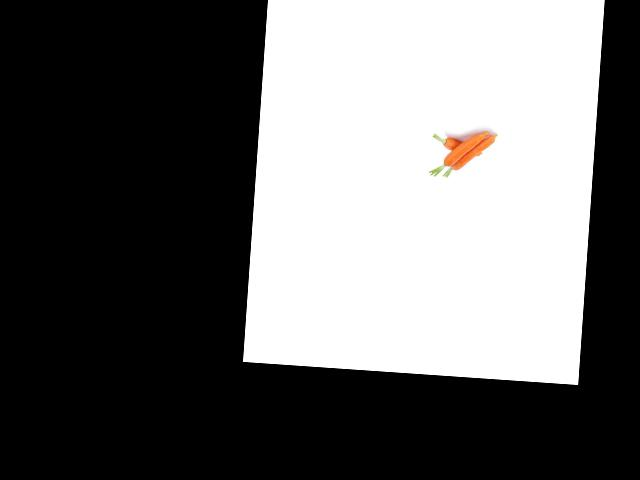carrot: (432, 136, 485, 159)
